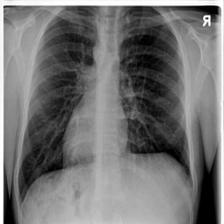tuberculosis: (16, 4, 200, 213)
